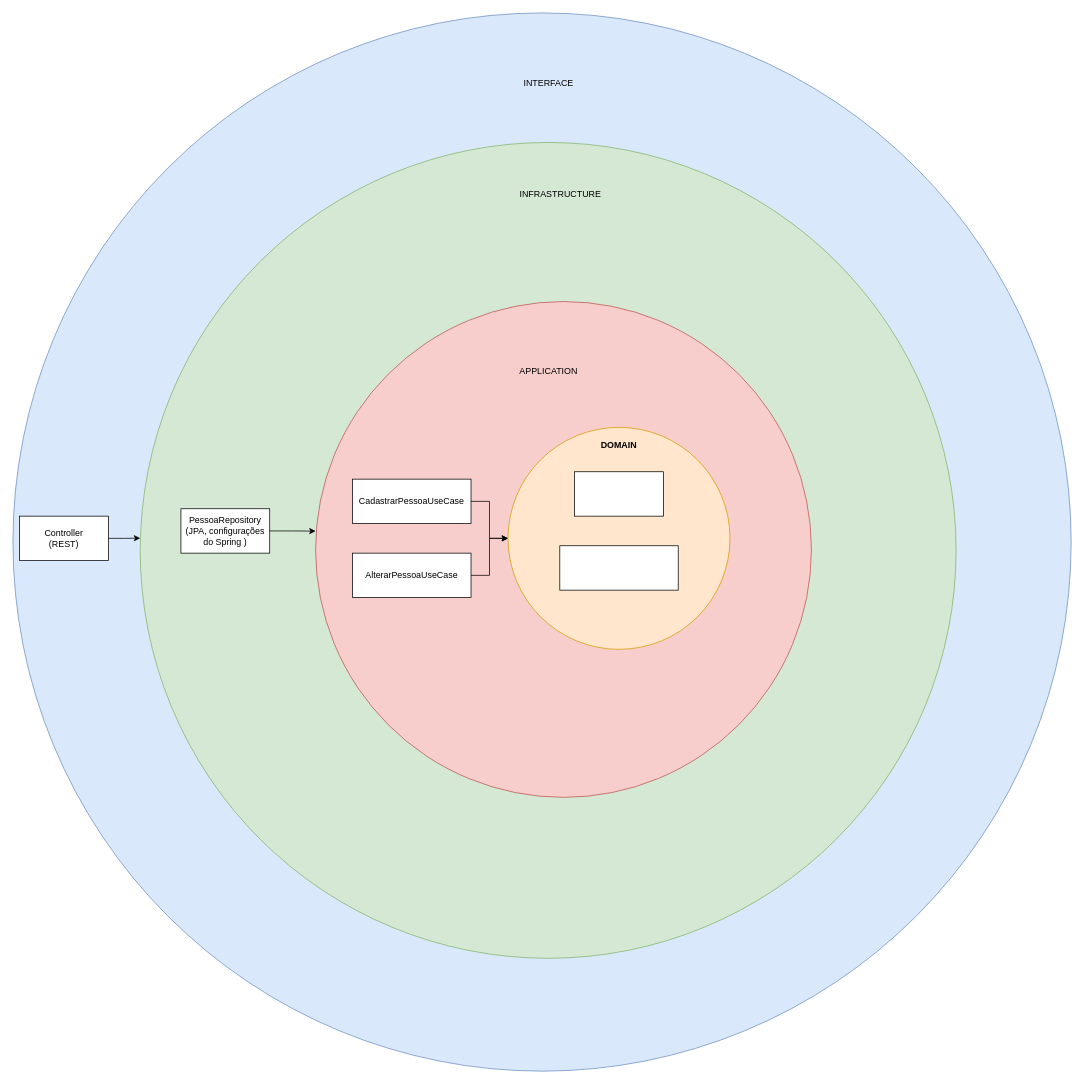
The diagram is 1084 pixels wide and 1084 high, and some of its shapes have lost their labels. The centre of each missing label's shape, as x and y in pixels:
Pessoa.java: the point at 618,493
PessoaDomainRepository: the point at 618,567
